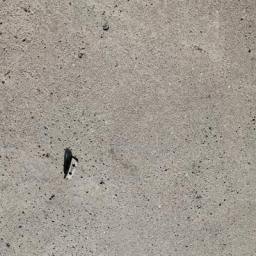FOD: (60, 148, 82, 184)
